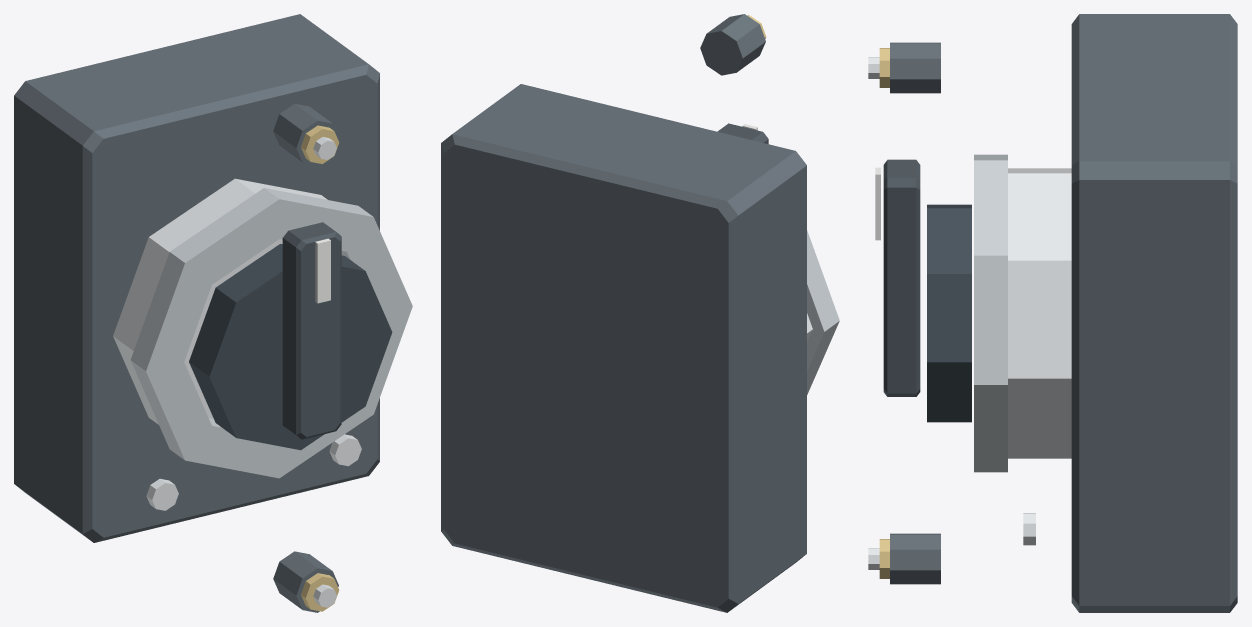
File: selectorSwitch.glb
3 renders of one model, left to right at view 1: azimuth 30°, elevation 25°; view 2: azimuth 150°, elevation 25°; view 3: azimuth 270°, elevation 25°, orthographic. The views are drawn at different scales.
Parts seen in each view (by area): view 1: selectorSwitch-board; view 2: selectorSwitch-board; view 3: selectorSwitch-board.
Part boxes in pixels (x1,y1,x2,y2): selectorSwitch-board: (14, 14, 412, 612); selectorSwitch-board: (441, 14, 839, 612); selectorSwitch-board: (868, 14, 1237, 612).
Bounding box in the file's own units: 1.33 × 2.11 × 1.31.
